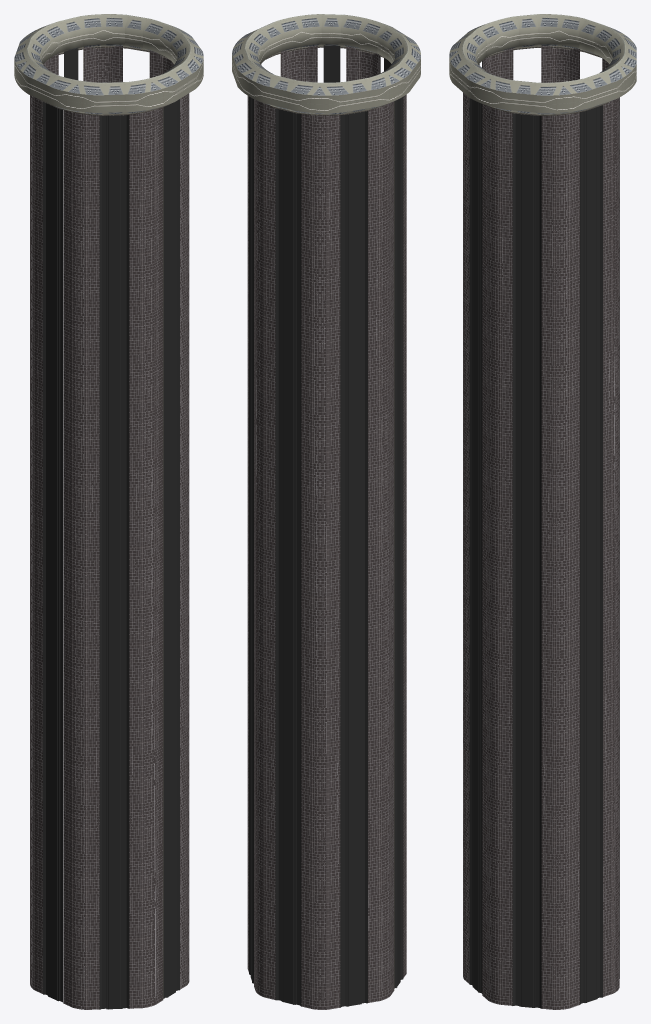
File: KF_SM_XBuilding020.fbx
3 renders of one model, left to right at view 1: azimuth 30°, elevation 25°; view 2: azimuth 150°, elevation 25°; view 3: azimuth 270°, elevation 25°, orthographic.
Visible parts, largest first — view 1: KF_SM_XBuilding020; view 2: KF_SM_XBuilding020; view 3: KF_SM_XBuilding020.
Part boxes in pixels (x1,y1,x2,y2): KF_SM_XBuilding020: (14,14,203,1009); KF_SM_XBuilding020: (232,14,420,1009); KF_SM_XBuilding020: (449,14,636,1009).
Bounding box in the file's own units: 2951 × 15983 × 2926.
